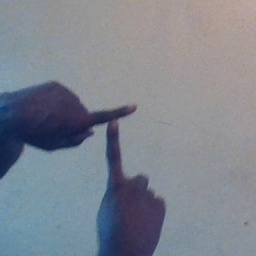T: (67, 90, 152, 192)
